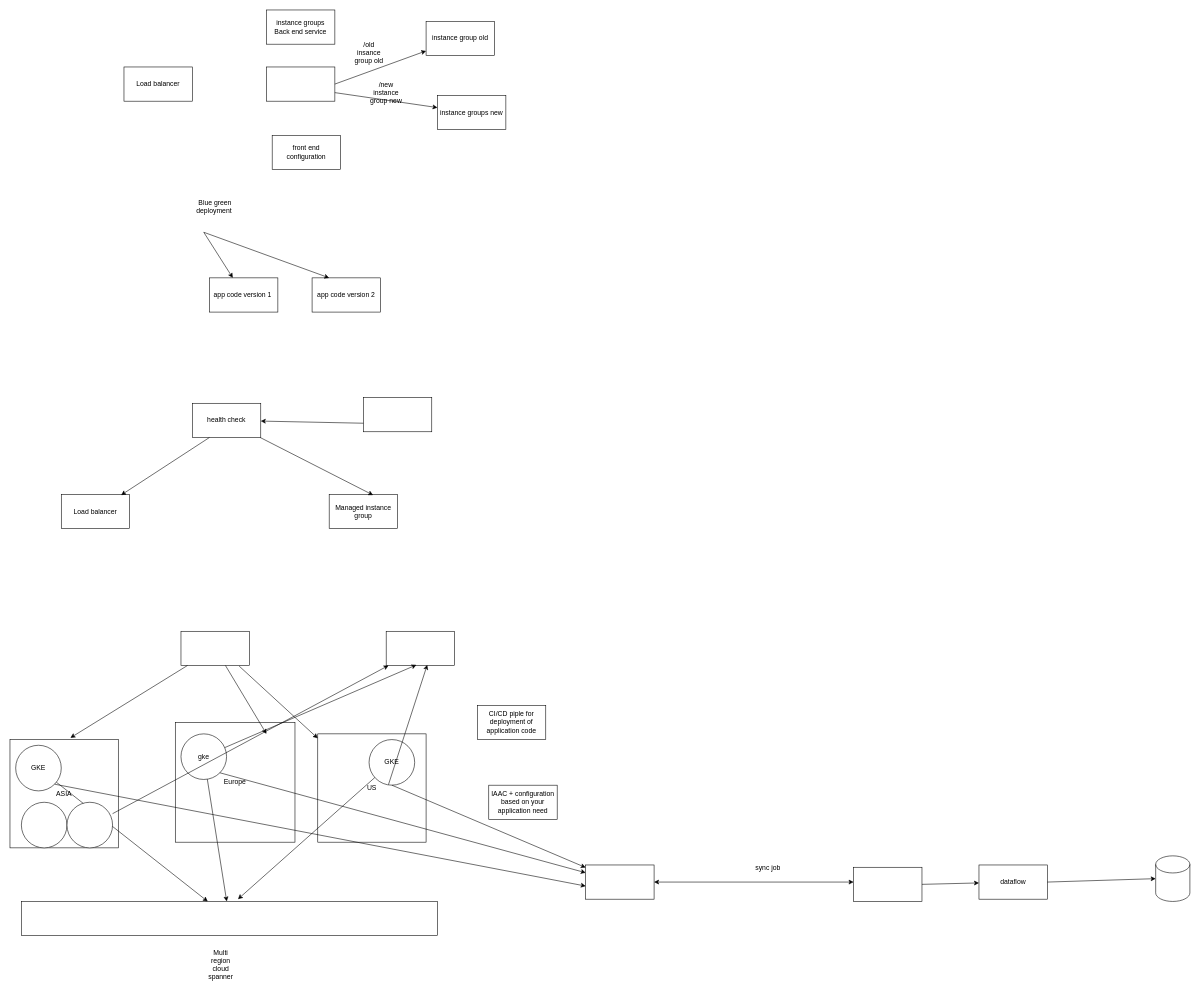
The diagram is 1200 pixels wide and 991 high, and some of its shapes have lost their labels. Each missing label, with the centre of its shape:
bigquery: (x=1172, y=878)
cloud stoarage: (x=887, y=884)
Global load balancer: (x=214, y=648)
health checker: (x=397, y=414)
pod ps4: (x=89, y=825)
pod xbox: (x=44, y=825)
pub sub for real time data: (x=420, y=648)
stack driver will have: (x=619, y=881)
url and path /old /new: (x=300, y=83)
